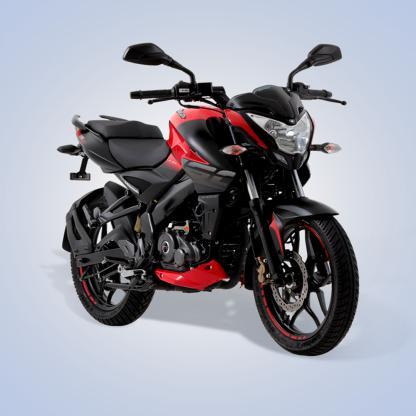Motorcycle: (55, 40, 366, 360)
